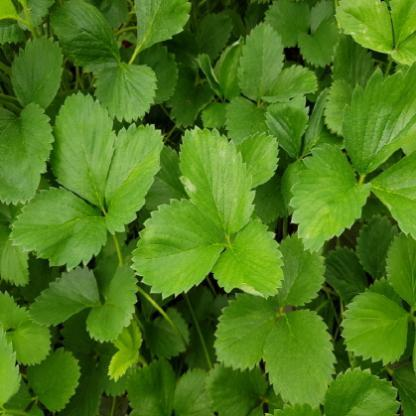Strawberry_Powdery_Mildew_Leaf: (178, 124, 256, 234), (211, 219, 285, 299)
